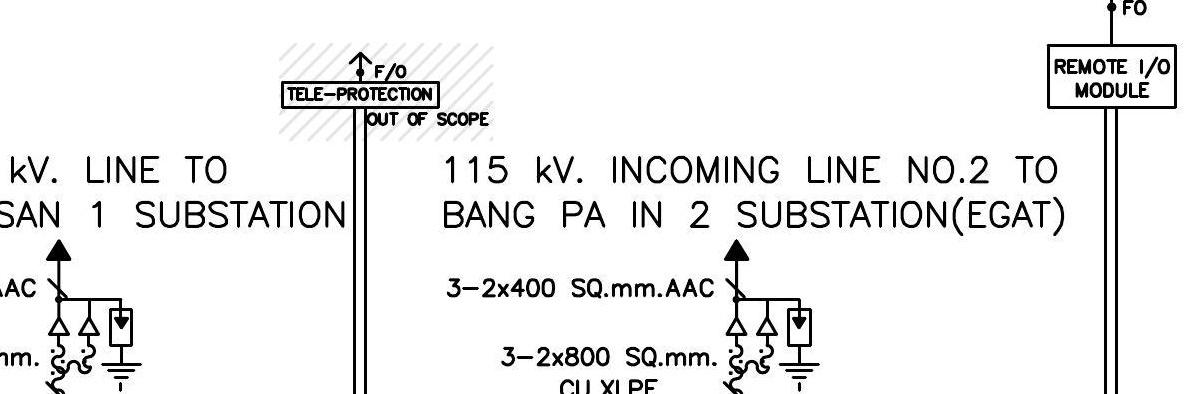115_la: (100, 308, 143, 393), (778, 308, 821, 393)
remote_io_module: (1046, 44, 1177, 109)
tele_protection: (280, 80, 441, 110)
terminator_double: (46, 297, 101, 337), (724, 297, 779, 337)
